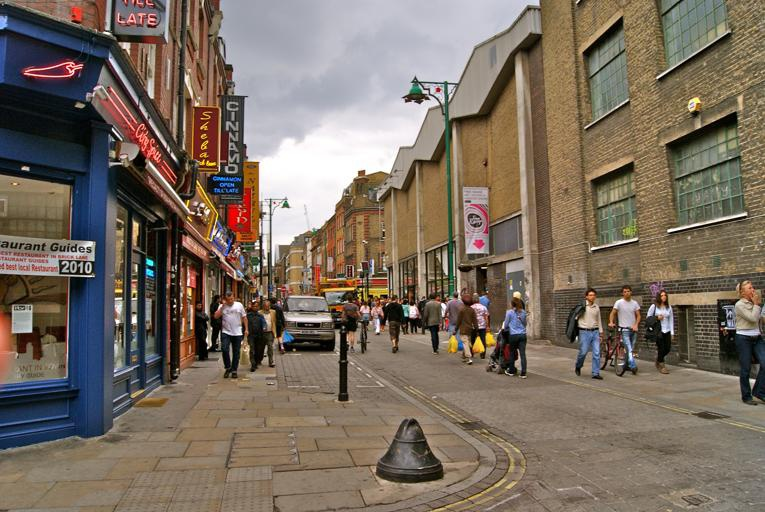non-vehicle: (596, 326, 631, 373), (356, 317, 370, 354)
